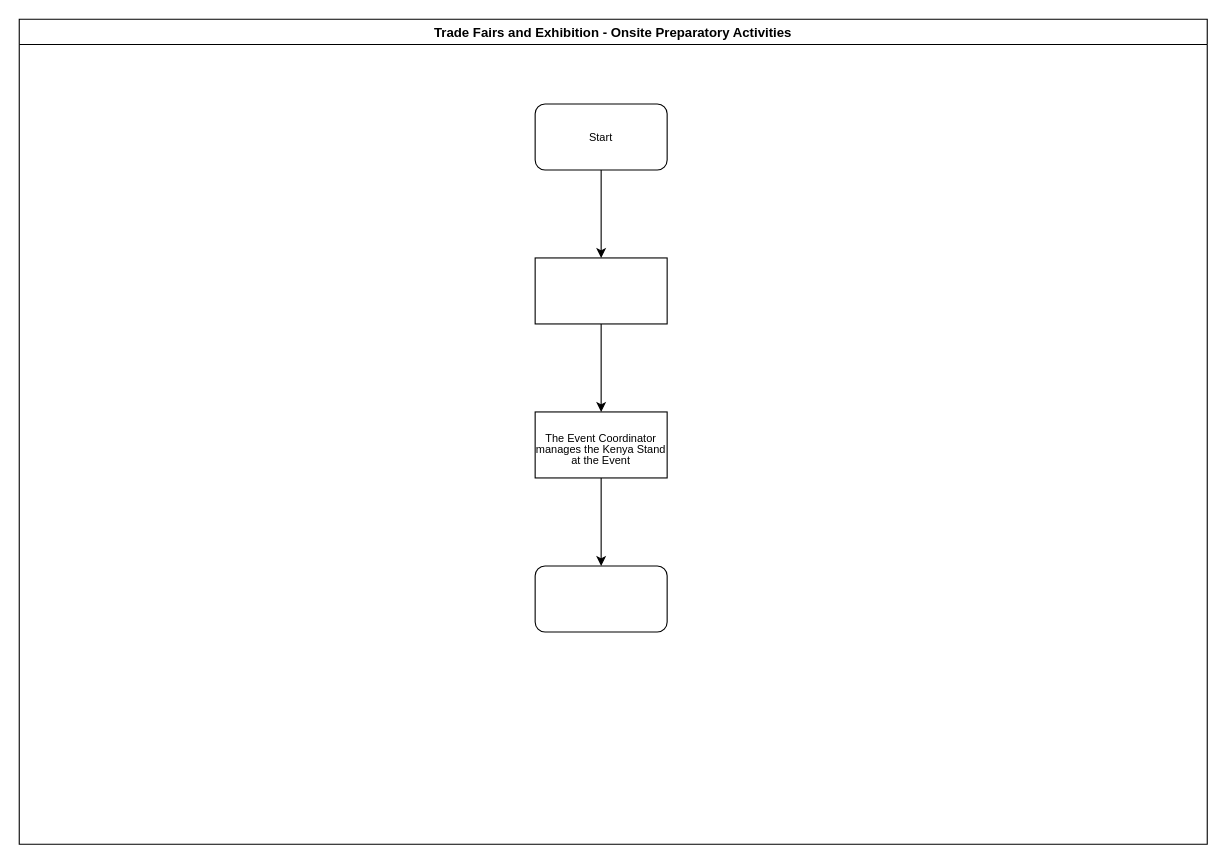
The diagram is 1227 pixels wide and 864 high, and some of its shapes have lost their labels. The shapes that lost their labels are listed below. From the top down, each one's centre as x and y in pixels, then its label:
At point 600,290: "Event Coordinator departs and embarks on on-site preparations".
At point 600,598: "End".
